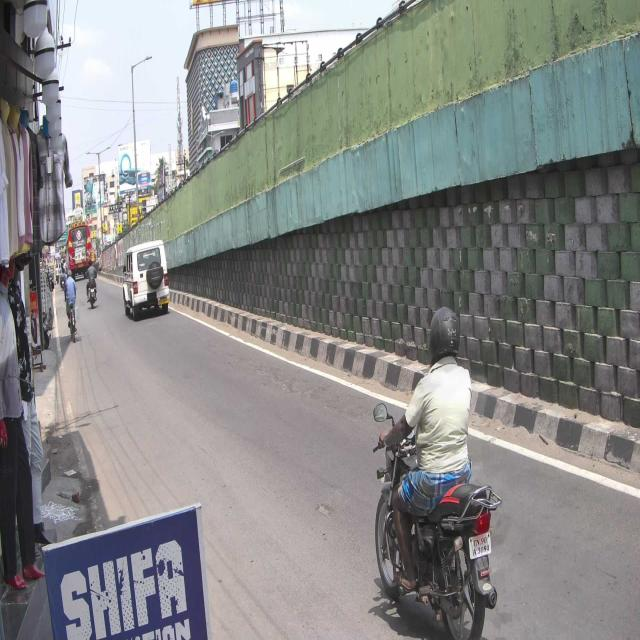single_rider: (373, 303, 498, 640)
